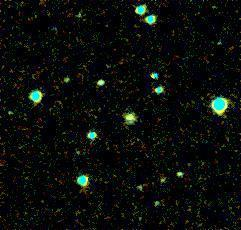star: (112, 104, 142, 134)
